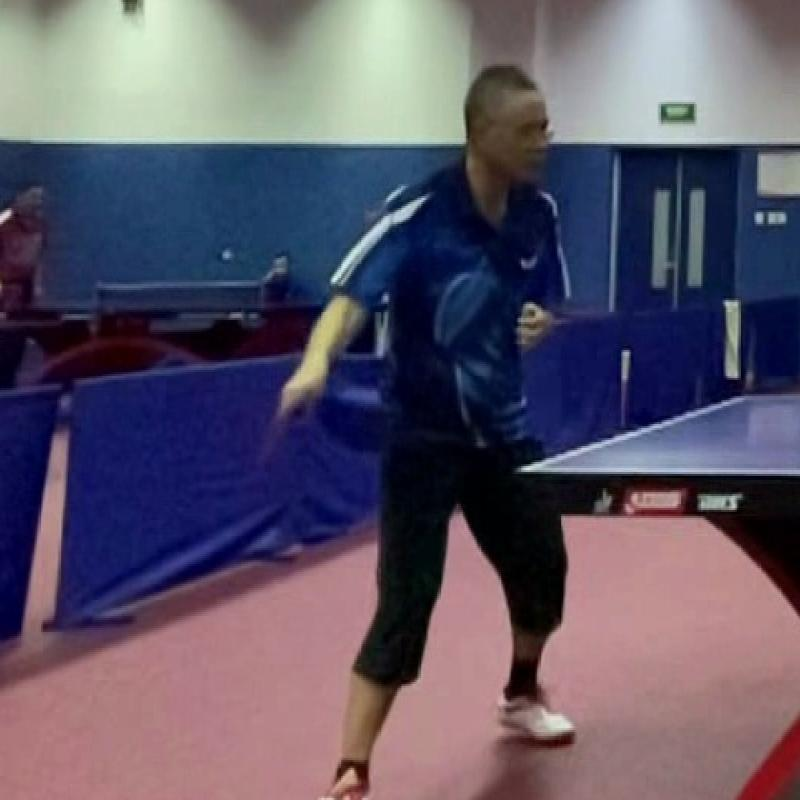bats: (246, 380, 326, 472)
